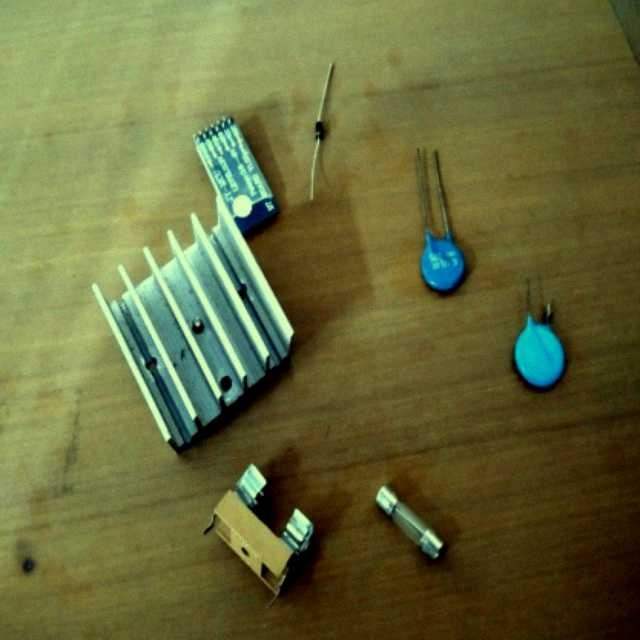capacitor: (514, 322, 564, 387), (421, 238, 464, 290)
